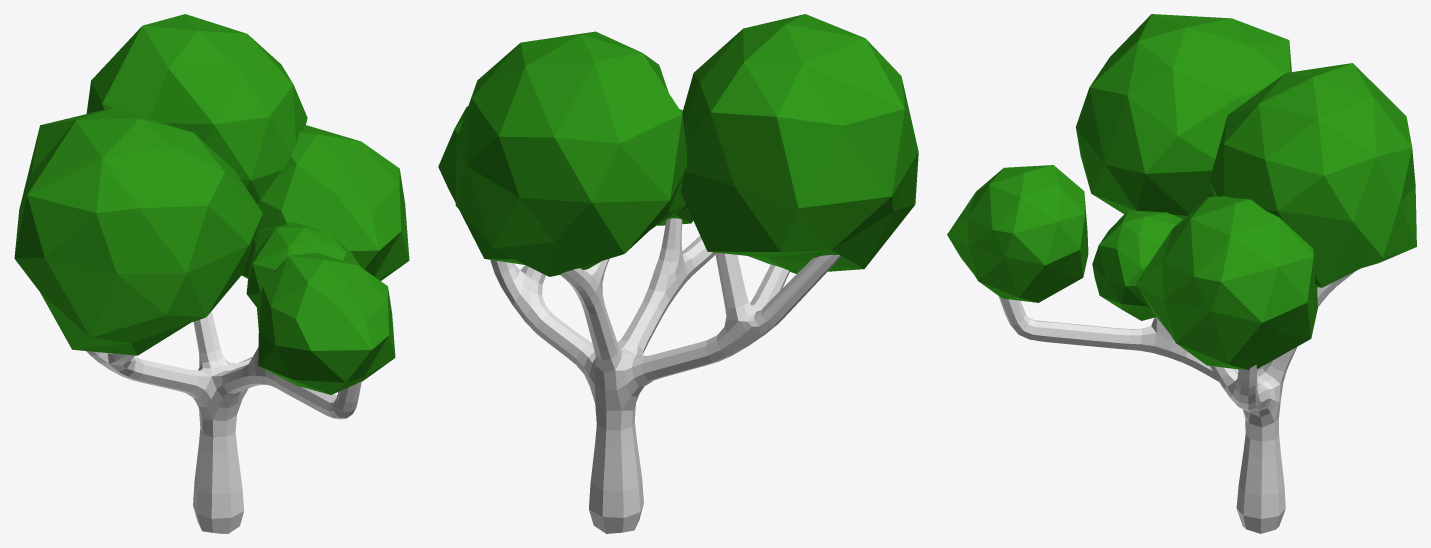
Rendered from TreeType2.fbx.
3 views of the same model, side by side, from view 1: azimuth 30°, elevation 25°; view 2: azimuth 150°, elevation 25°; view 3: azimuth 270°, elevation 25° (orthographic). The views are drawn at different scales.
Visible parts, largest first — view 1: Icosphere, Plane; view 2: Icosphere, Plane; view 3: Icosphere, Plane.
Part boxes in pixels (<box>): Icosphere: <box>14,14,409,394</box>; Plane: <box>86,311,361,533</box>; Icosphere: <box>438,14,918,276</box>; Plane: <box>490,218,840,533</box>; Icosphere: <box>947,14,1416,369</box>; Plane: <box>998,271,1355,533</box>.
Size of the model in its own units: 492 by 573 by 533.
